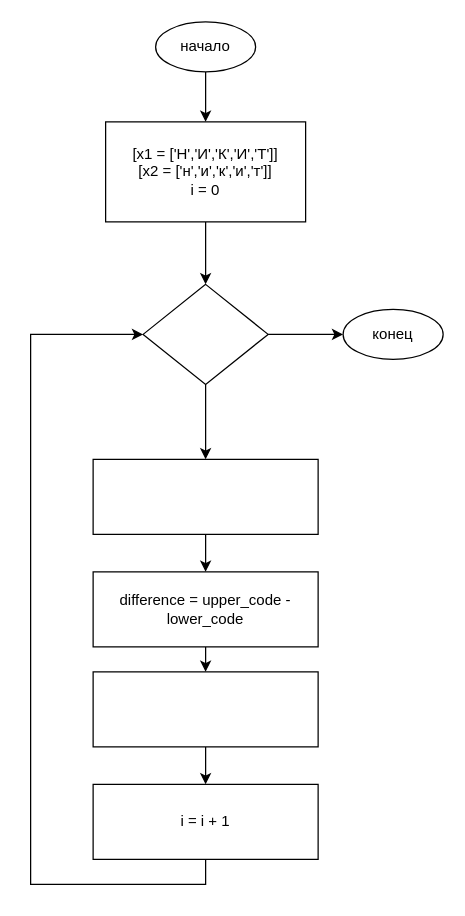
Image size: 465x916. Some labels were removed from this diagram. The shapes that lost their labels are listed below. From the top down, each one's centre as x and y in pixels, then its label:
At pixel 205 333: "i < 5?".
At pixel 205 496: "upper_code = КОД x1[i] lower_code = КОД x2[i]".
At pixel 205 709: "Вывод буквы и разницы".
